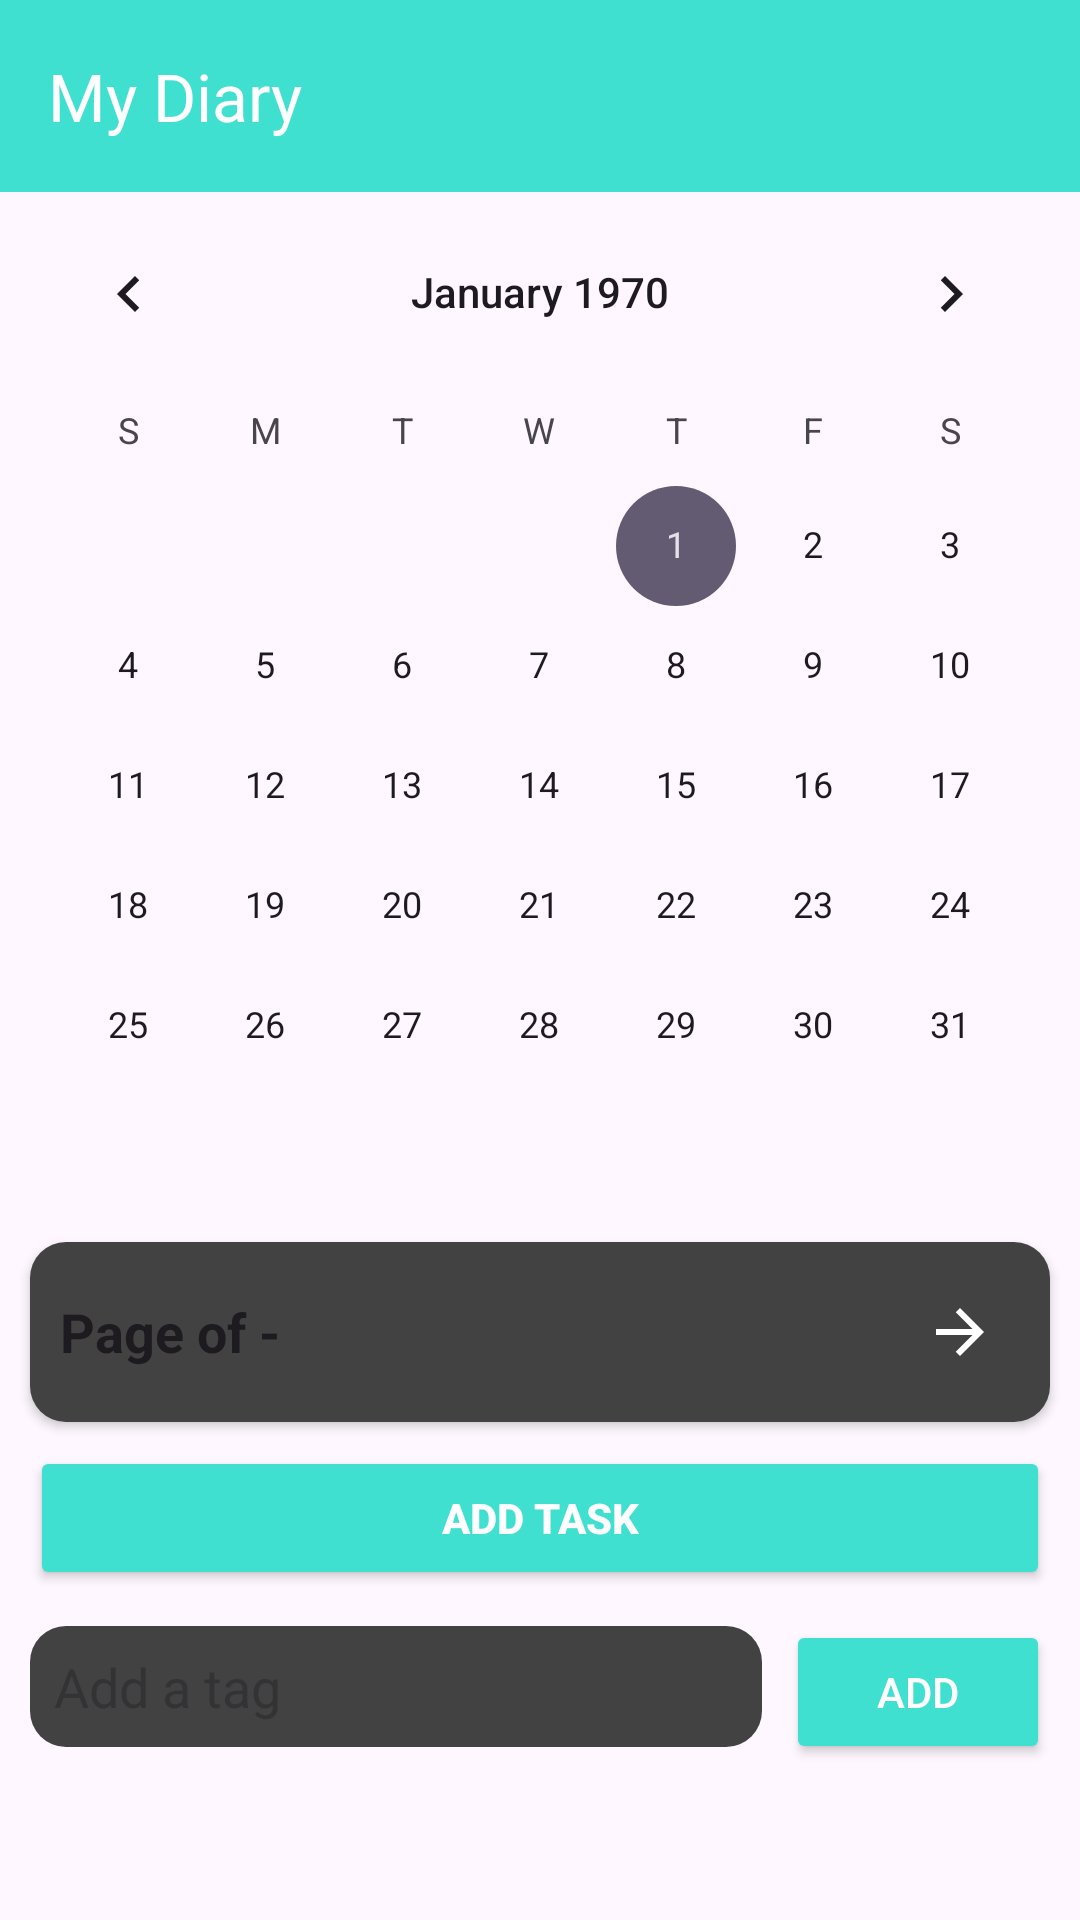

Icons on this 1080*1920 Android screen, each with the point to tap as point (x, y):
Next Page: point (960, 1332)
